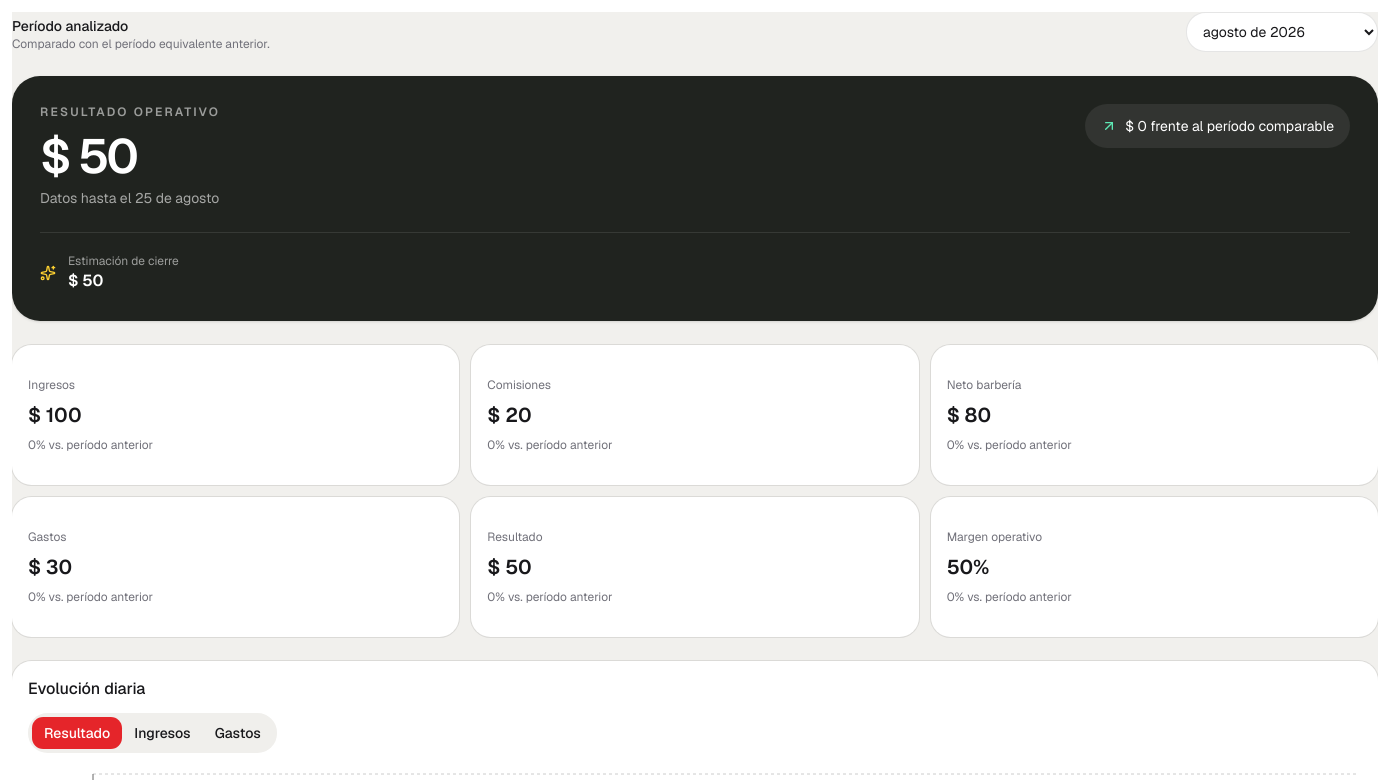
Test case: keeps the last report visible when changing month fails
Select "2026-07" in the dropdown named "Mes del reporte" at point(1282, 32), box [1186,12,1378,52]
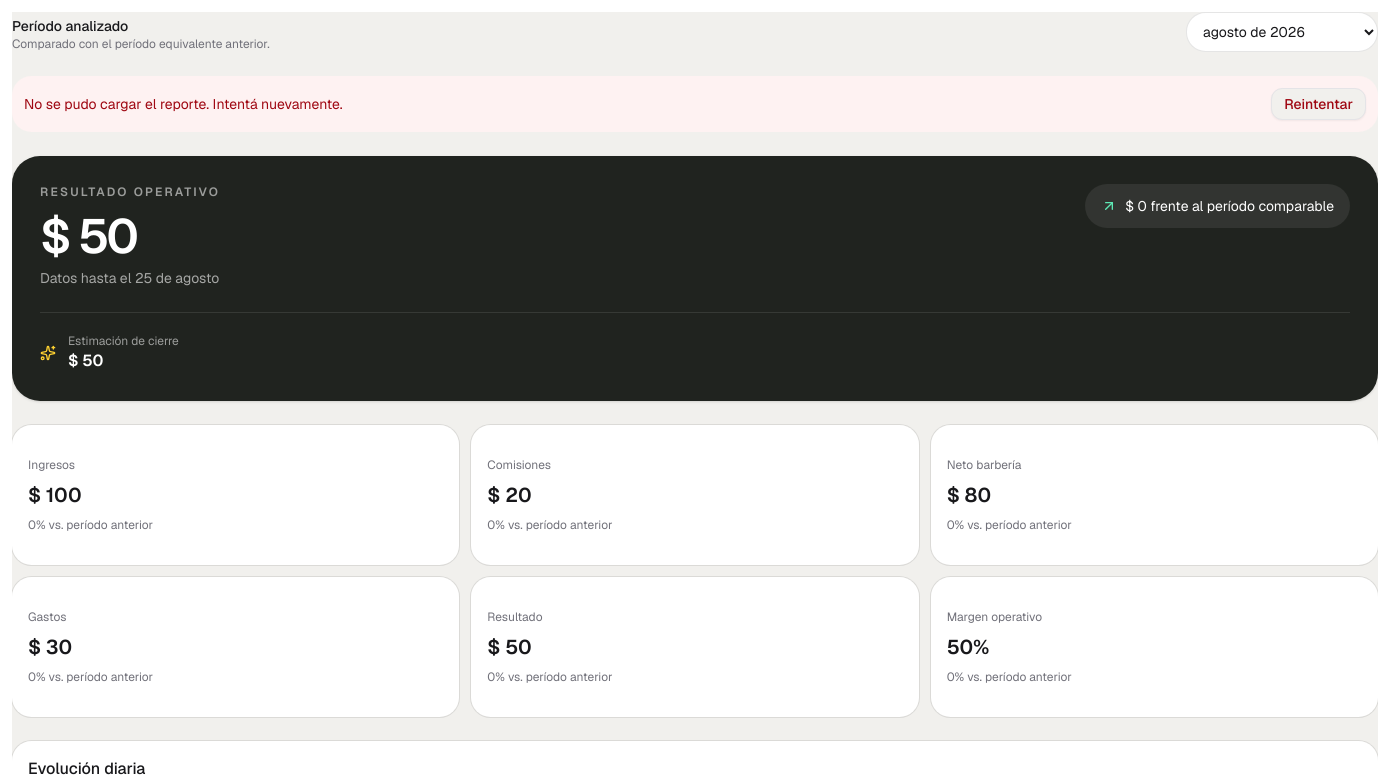
Check: the text "Resultado operativo" is shown, box [40,184,220,200]
Check: the message shows "No se pudo cargar el reporte", box [24,95,343,113]
